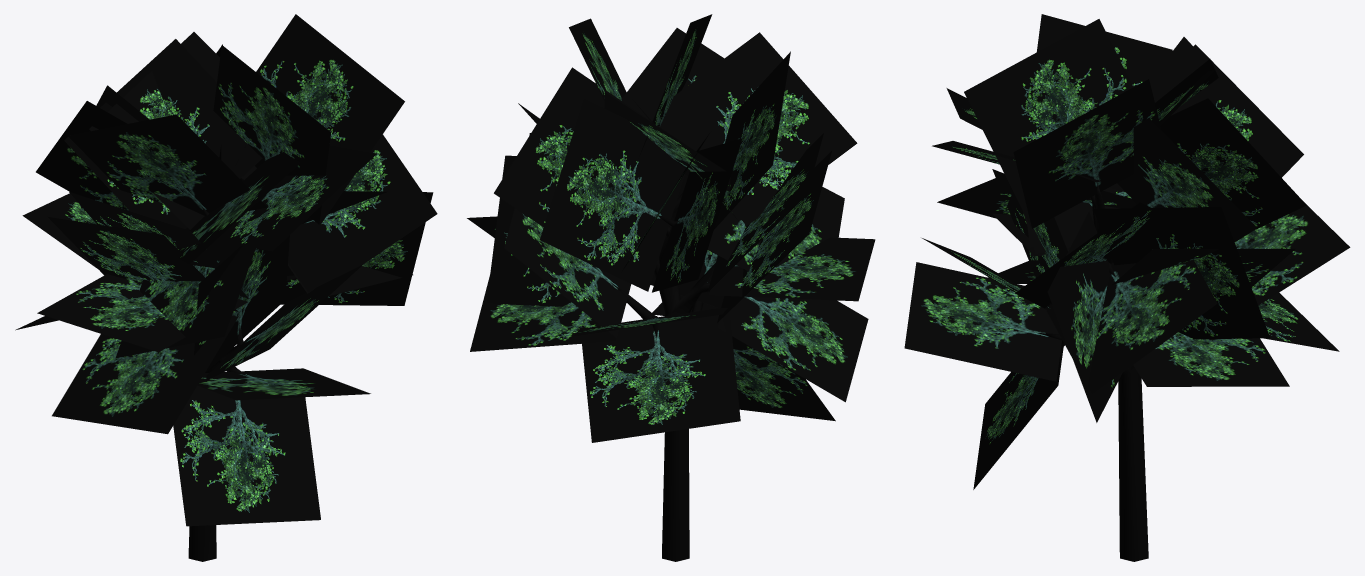
The model's file is tree58.glb.
3 views of the same model, side by side, from view 1: azimuth 30°, elevation 25°; view 2: azimuth 150°, elevation 25°; view 3: azimuth 270°, elevation 25° (orthographic). The views are drawn at different scales.
Size of the model in its own units: 5 by 6.84 by 5.14.
Materials: 2 (1 with a texture image).
